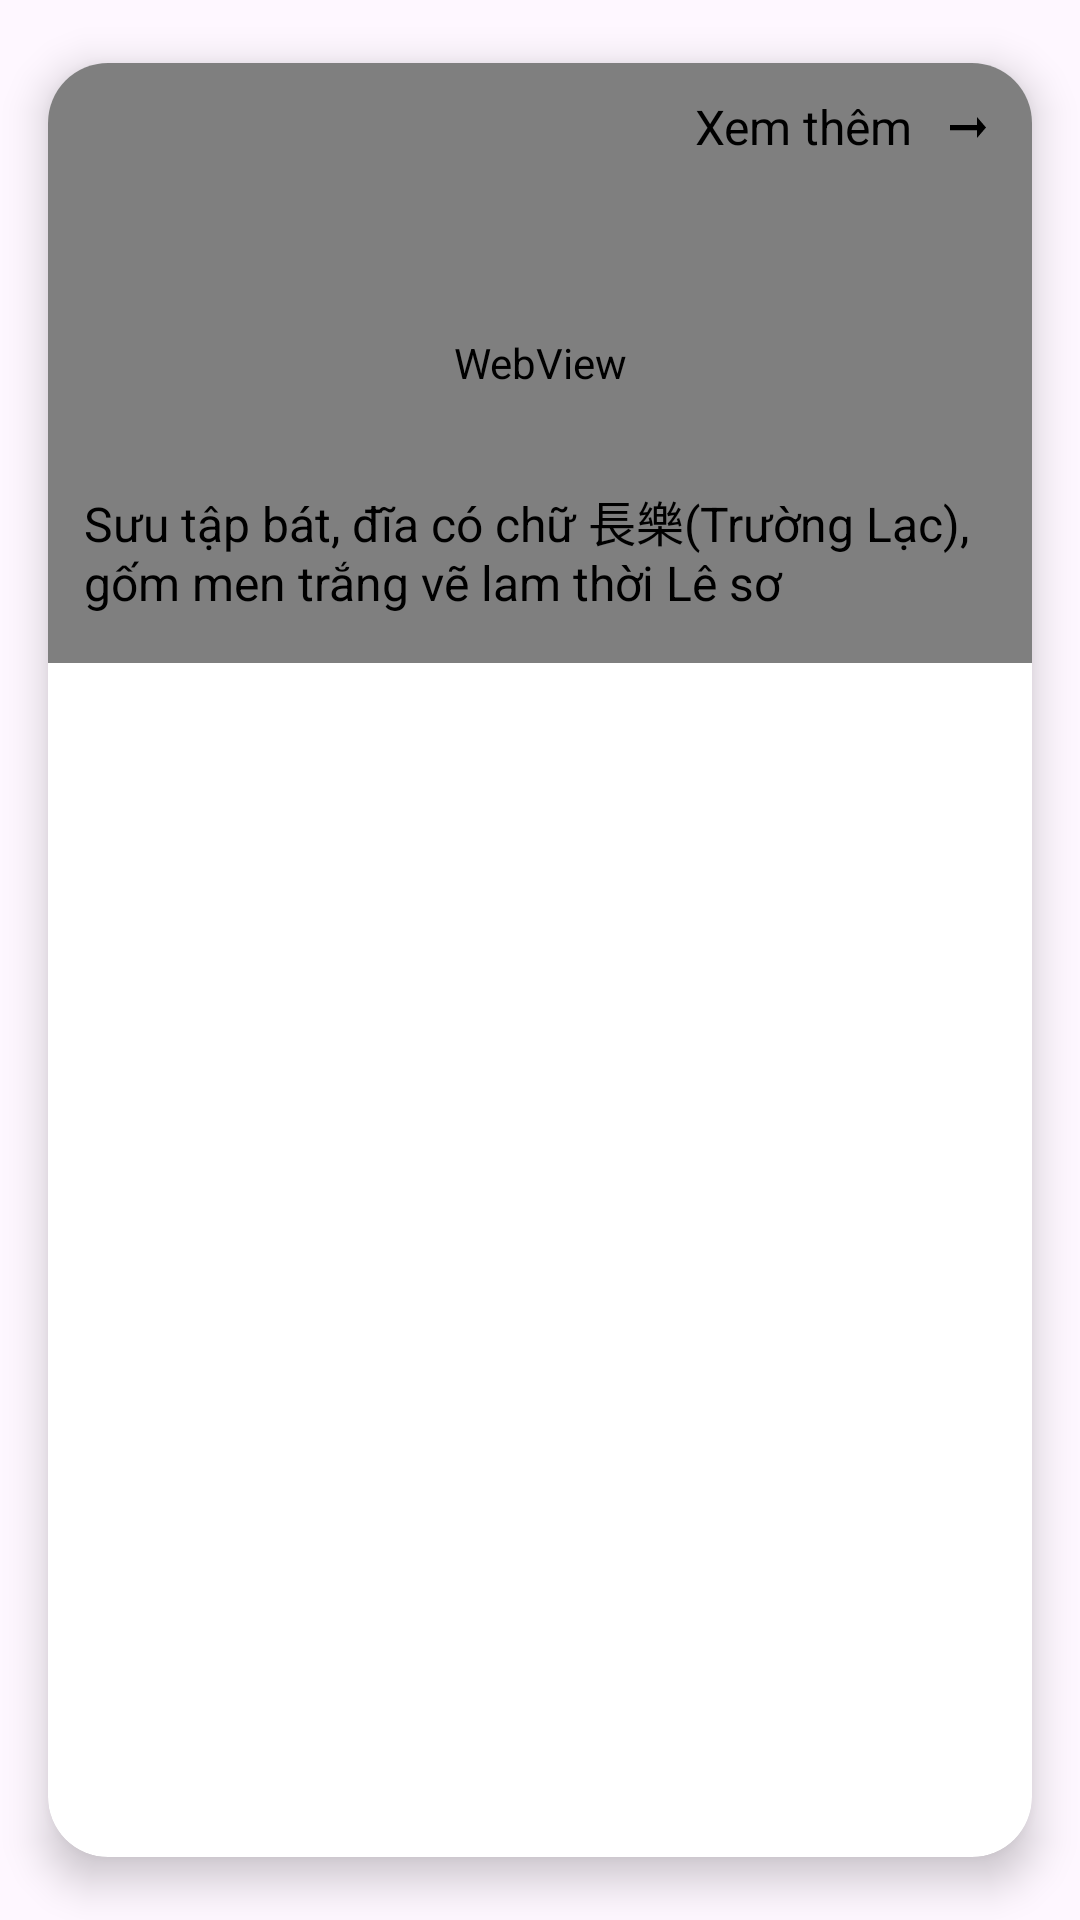

Screen size 1080×1920. Icon name, then its box in pixels as (x1=x1, y1=y1, x2=x2, y2=y2):
arrow right: (x1=950, y1=117, x2=986, y2=138)
